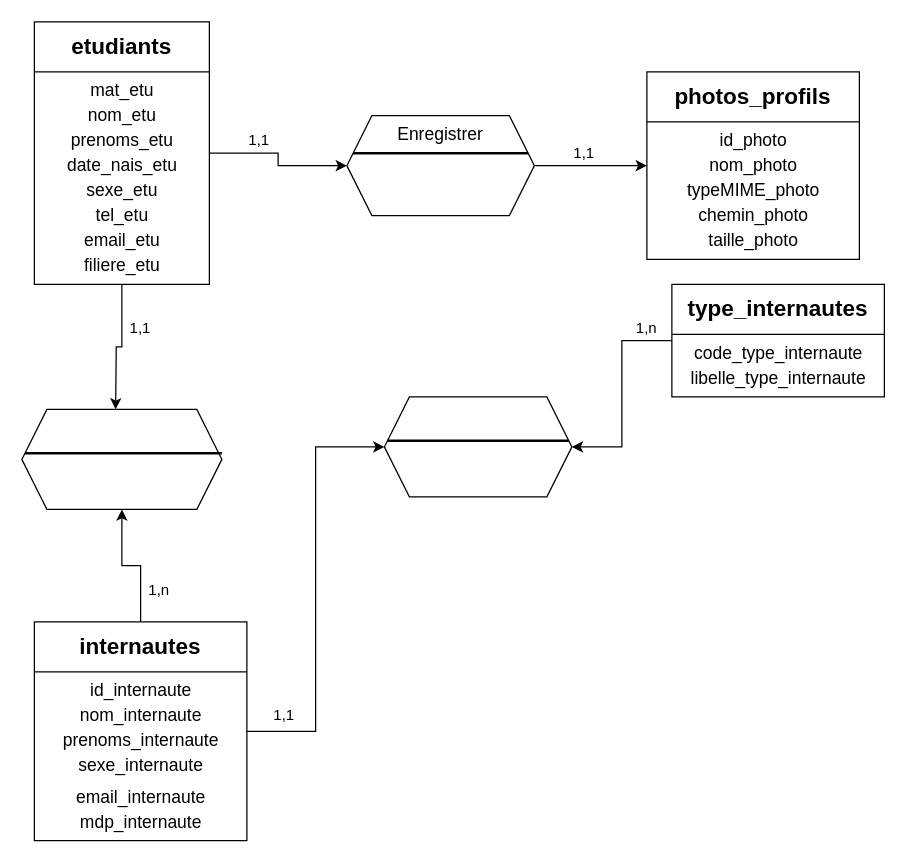
The diagram is 906 pixels wide and 863 high, and some of its shapes have lost their labels. The centre of each missing label's shape, as x and y in pixels:
"Ajouter" goes at pixel 121 458.
"Appartenir" goes at pixel 477 446.
